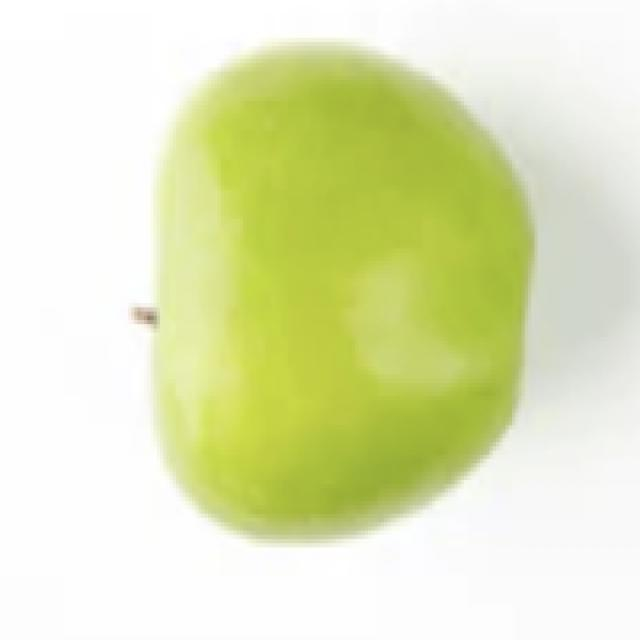Fresh Apple: (112, 79, 533, 544)
